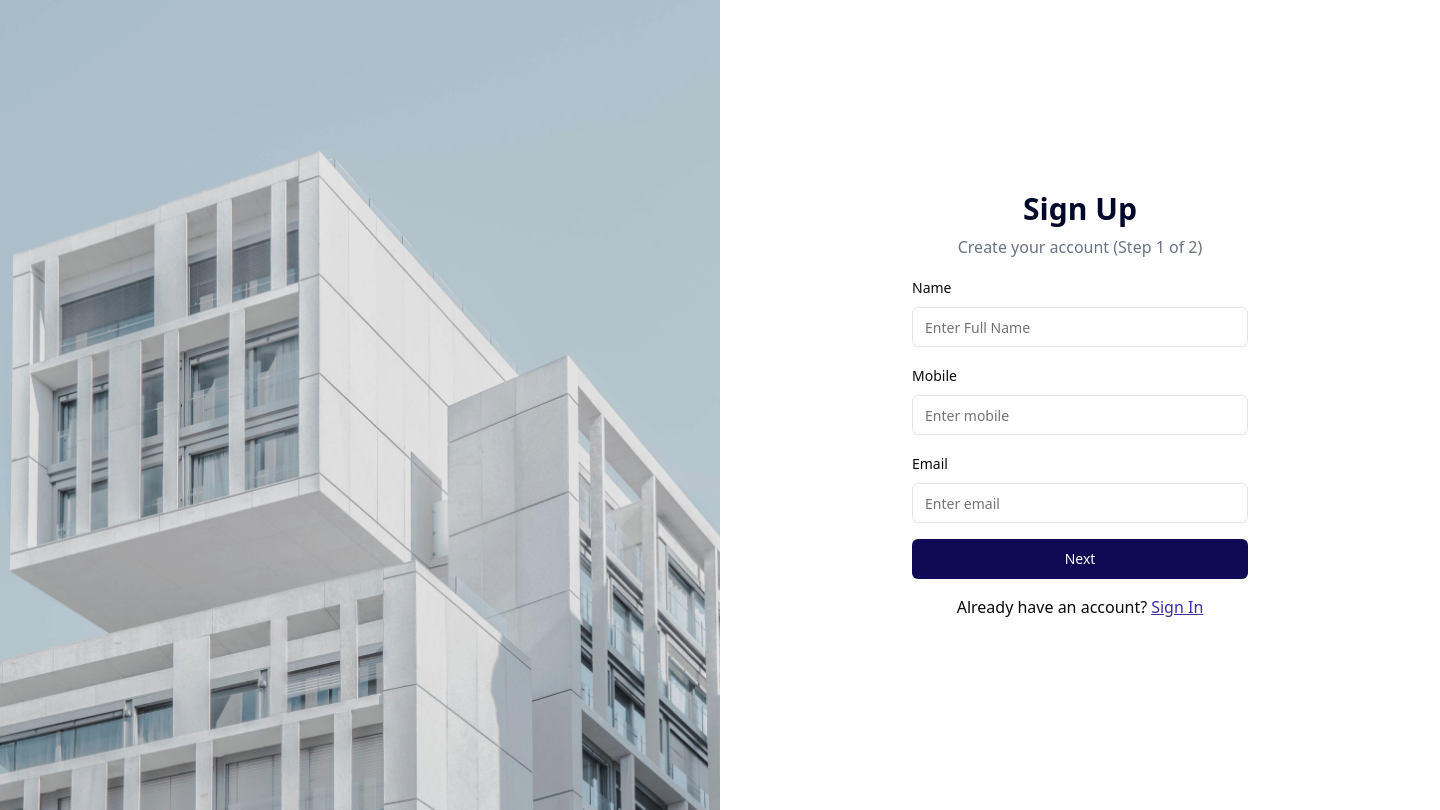
Scenario: SignUp component › Navigates to step 2 when next is clicked and data is filled
Type "John Doe" into the field labelled "Name" at (1080, 327), box top-left (912, 307), bottom-right (1248, 347)
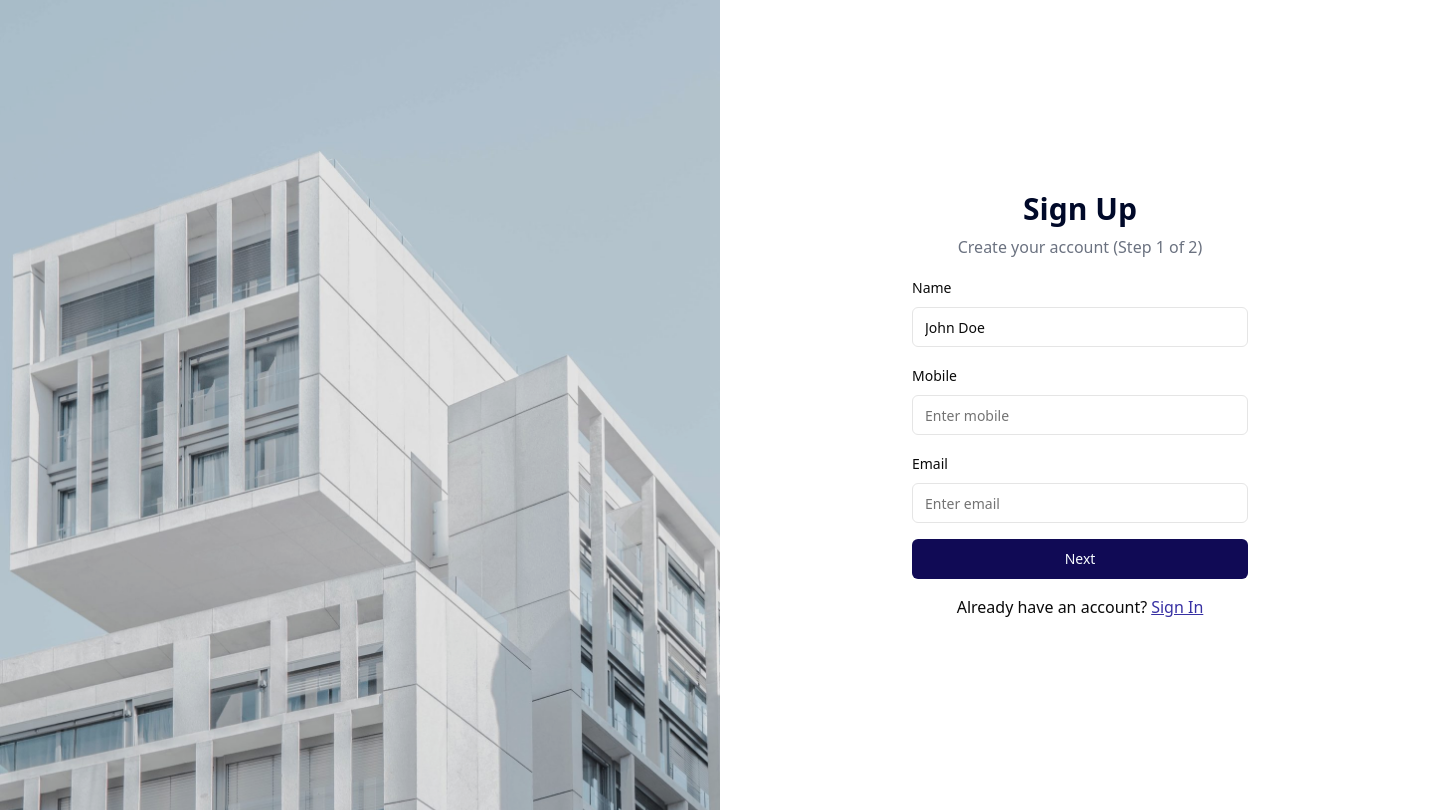
Type "342668712" into the field labelled "Mobile" at (1080, 415), box top-left (912, 395), bottom-right (1248, 435)
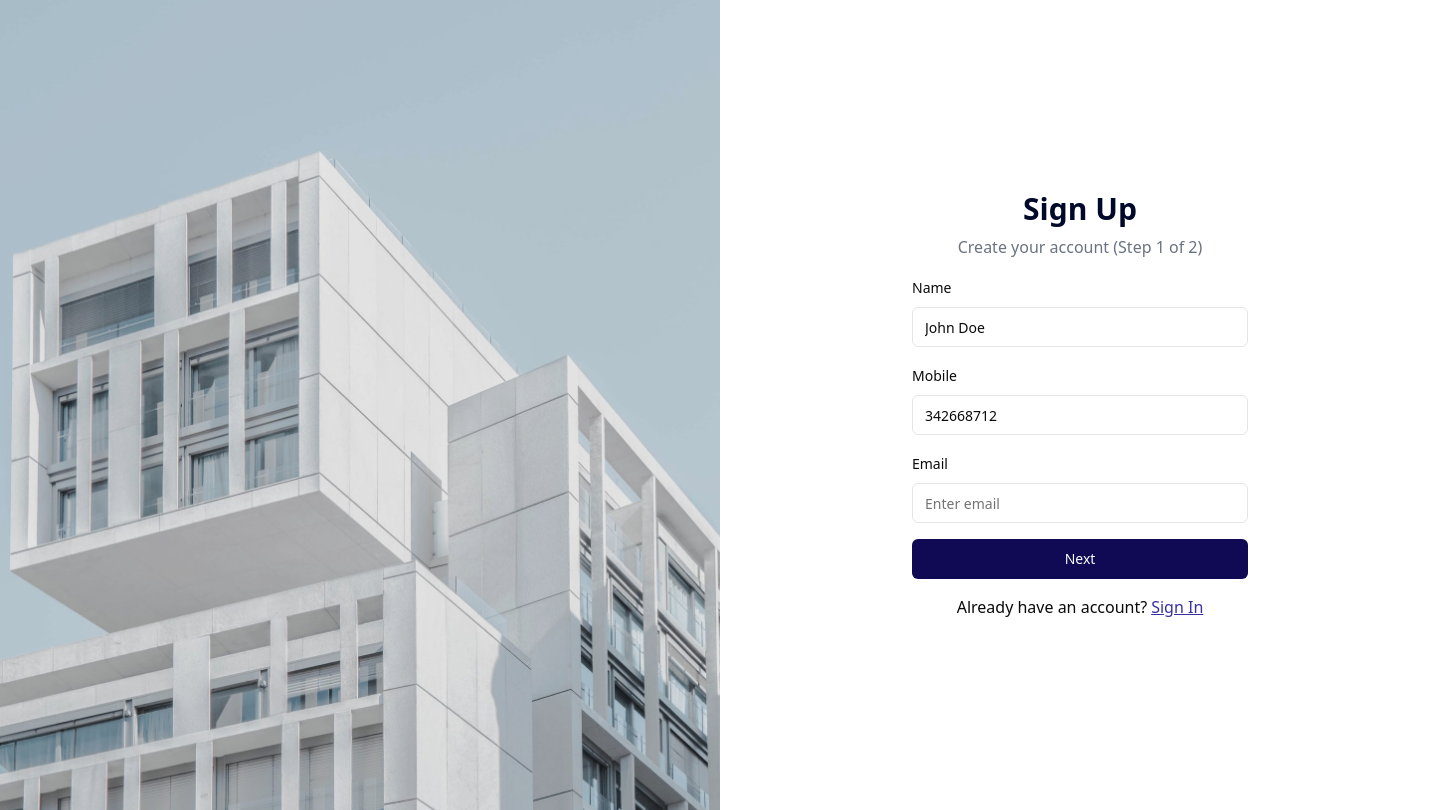
Type "john@email.com" into the field labelled "Email" at (1080, 503), box top-left (912, 483), bottom-right (1248, 523)
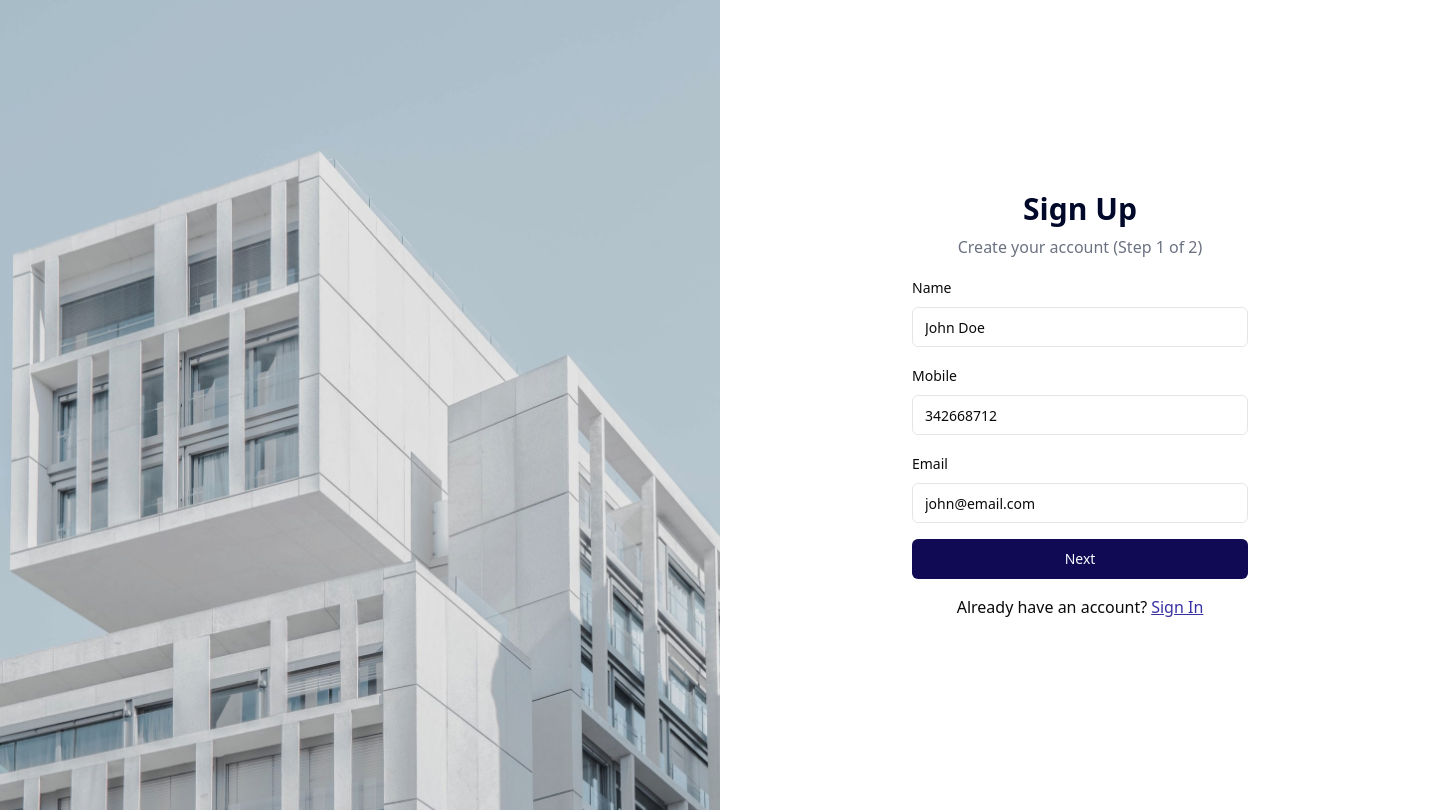
Click the button "Next" at (1080, 559), box top-left (912, 539), bottom-right (1248, 579)
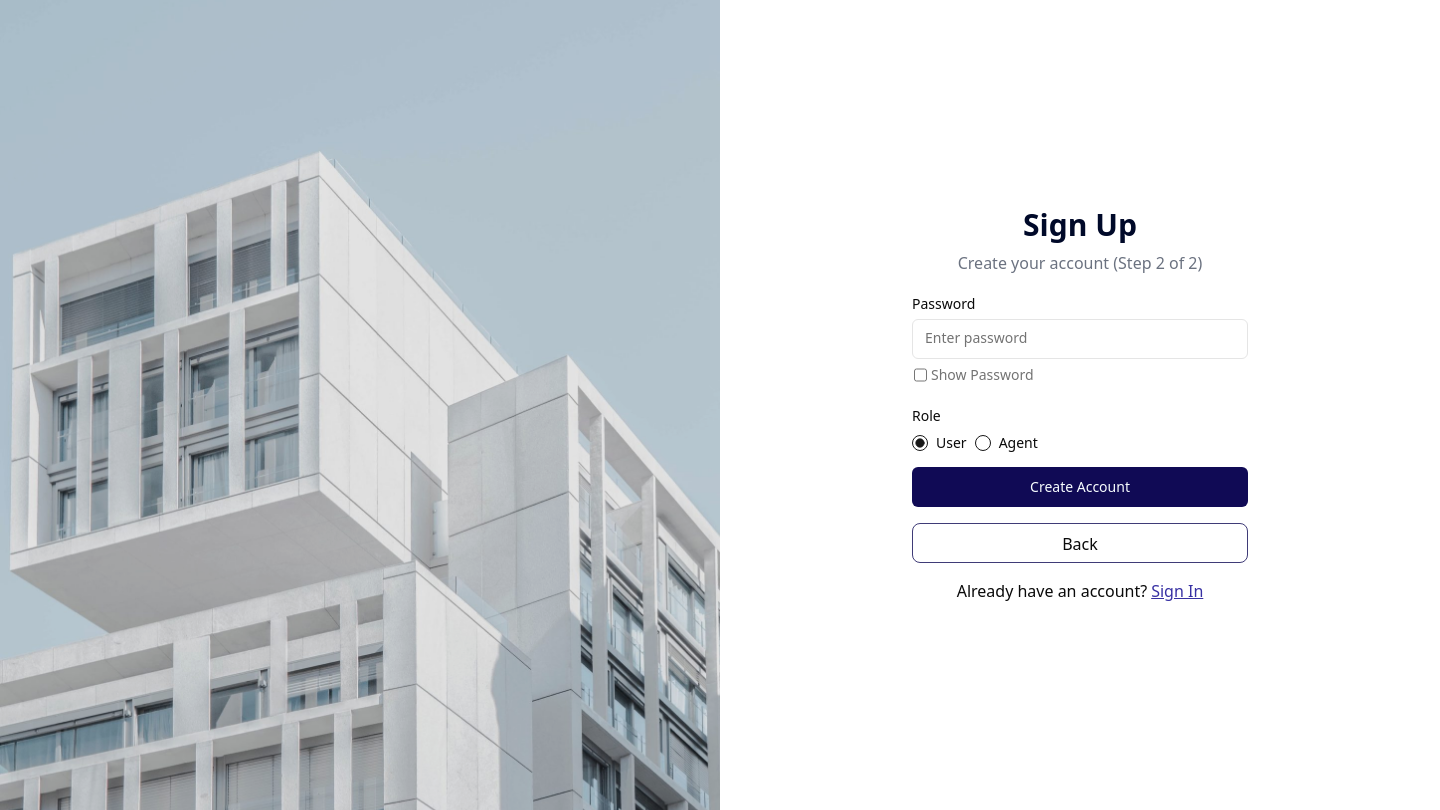
expect the text "Create your account (Step 2 of 2)" is shown: met, box top-left (958, 252), bottom-right (1202, 274)
expect the password field labelled "Password" is shown: met, box top-left (912, 319), bottom-right (1248, 359)
